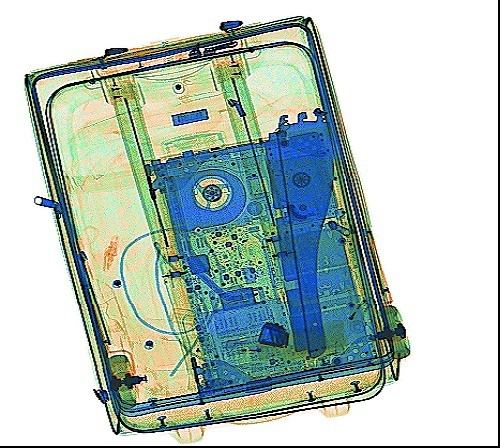lighter: (329, 293, 375, 349), (220, 336, 276, 354)
